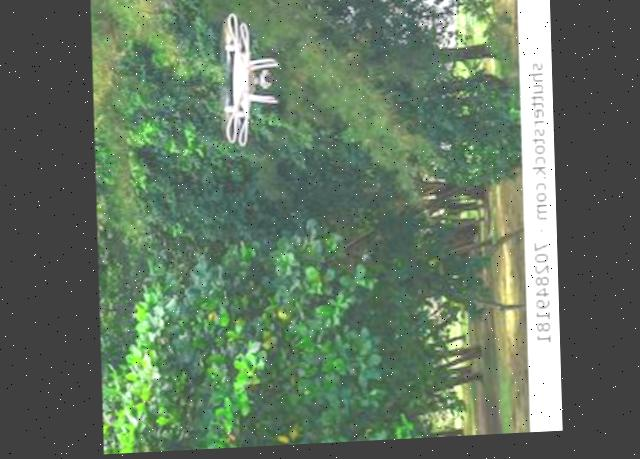drone: (196, 6, 297, 164)
